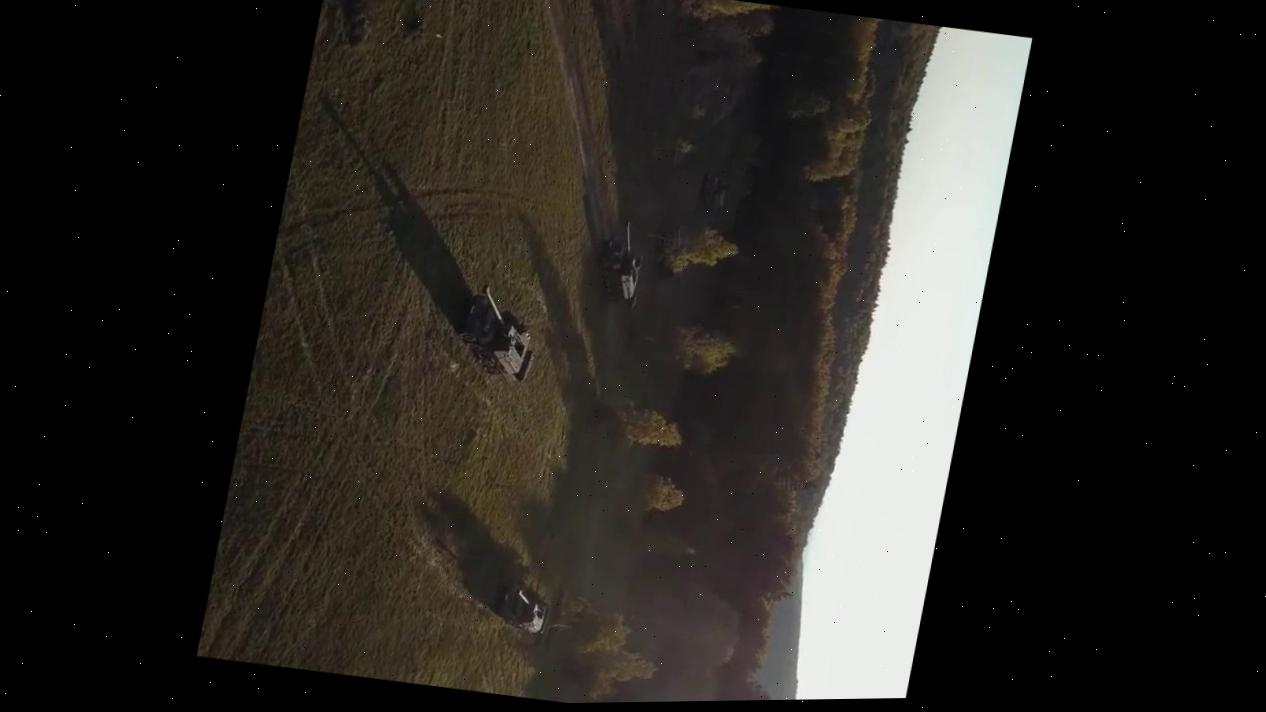sau: (451, 277, 549, 385), (593, 215, 653, 308), (493, 582, 554, 635), (690, 164, 740, 218)
